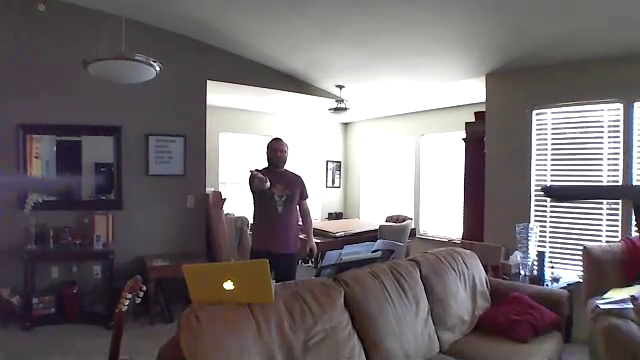land: (247, 167, 276, 187)
